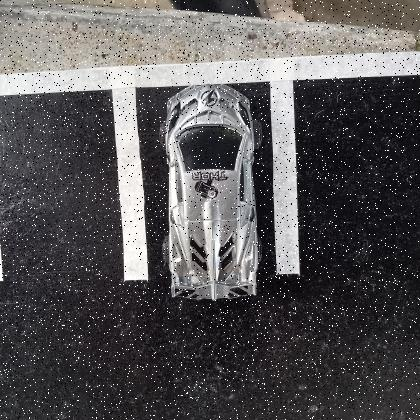Car: (163, 85, 260, 302)
